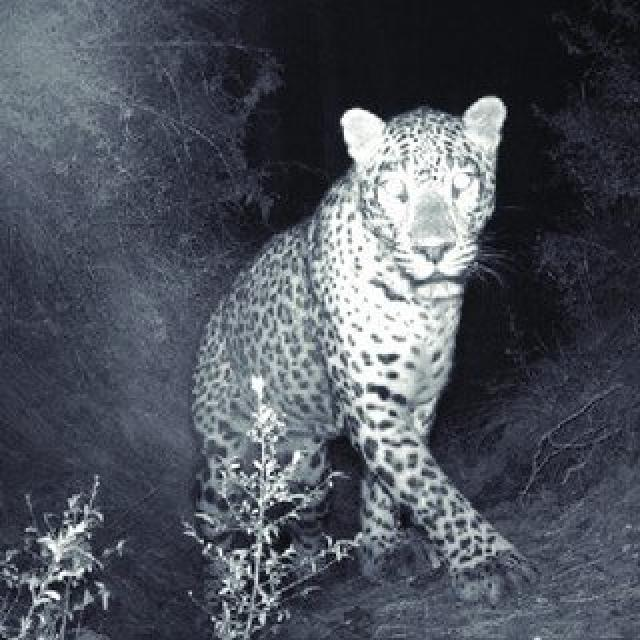Leopard: (198, 97, 512, 640)
